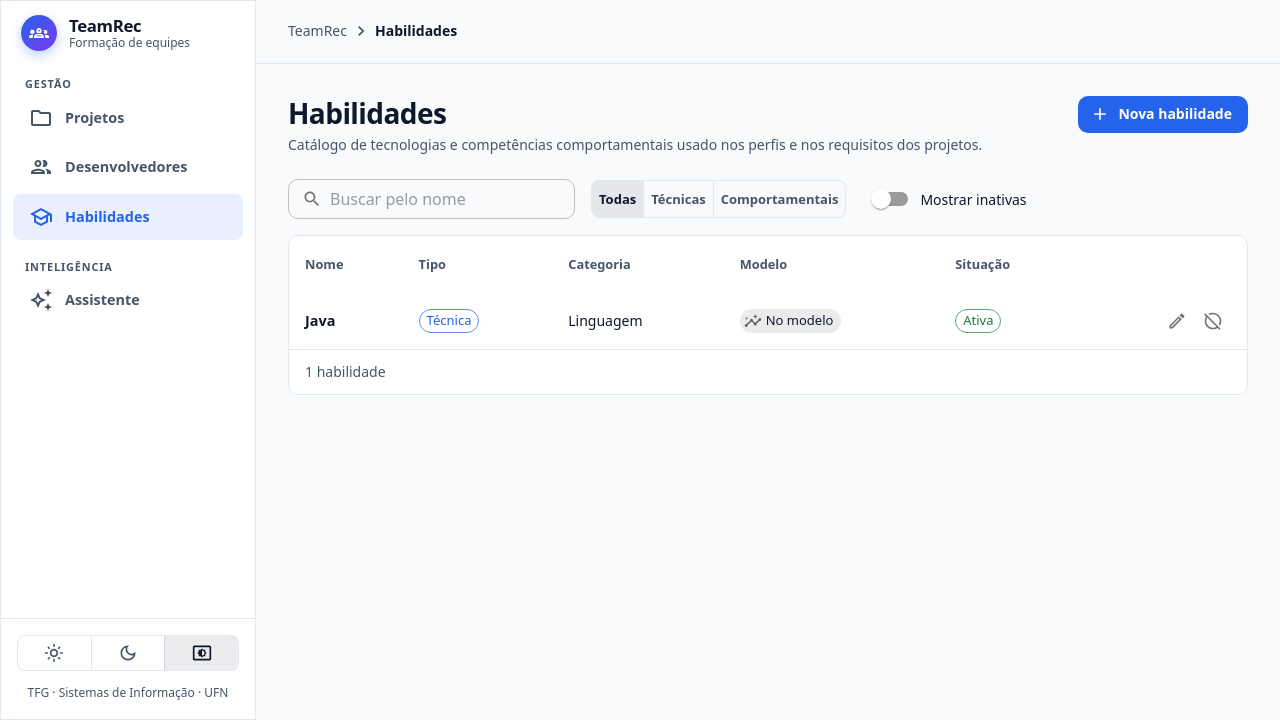
Test: pagina de habilidades › mostra no campo o conflito de nome devolvido pelo servidor
Click the button "Nova habilidade": (1163, 114) [1078,96,1248,132]
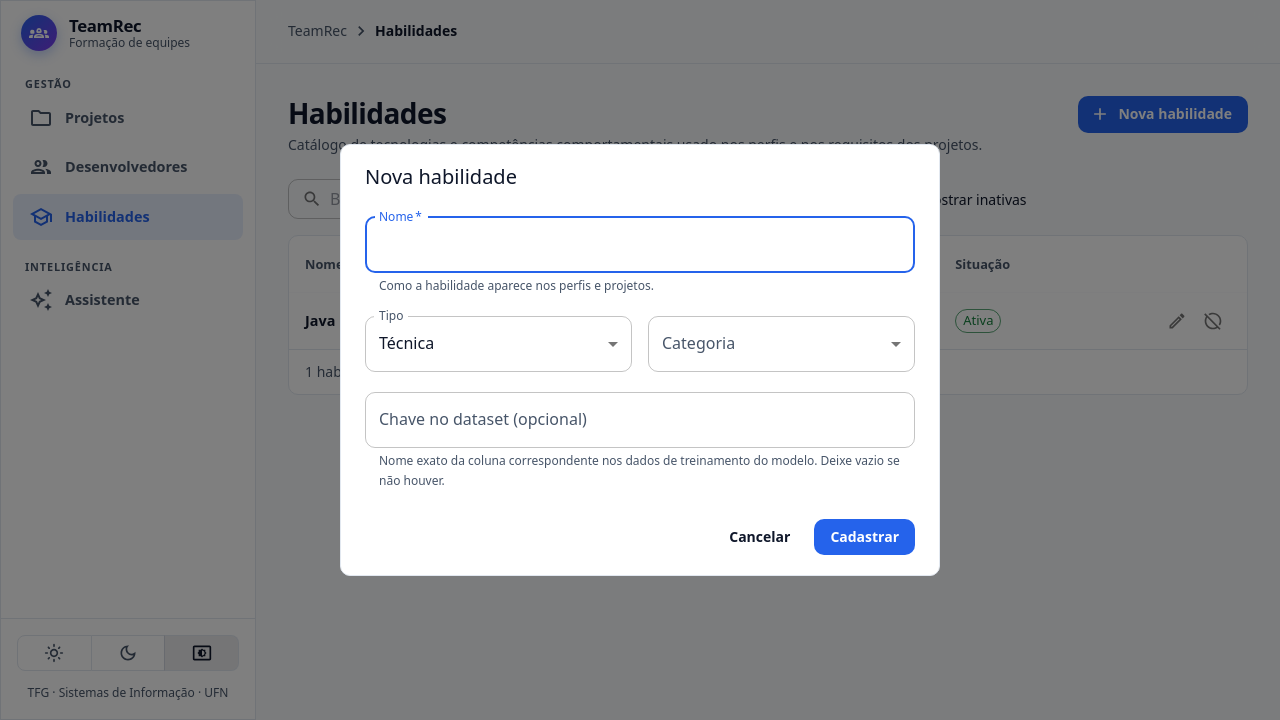
In the field labelled "Nome *": (640, 245) [365,217,915,273], type "Java"
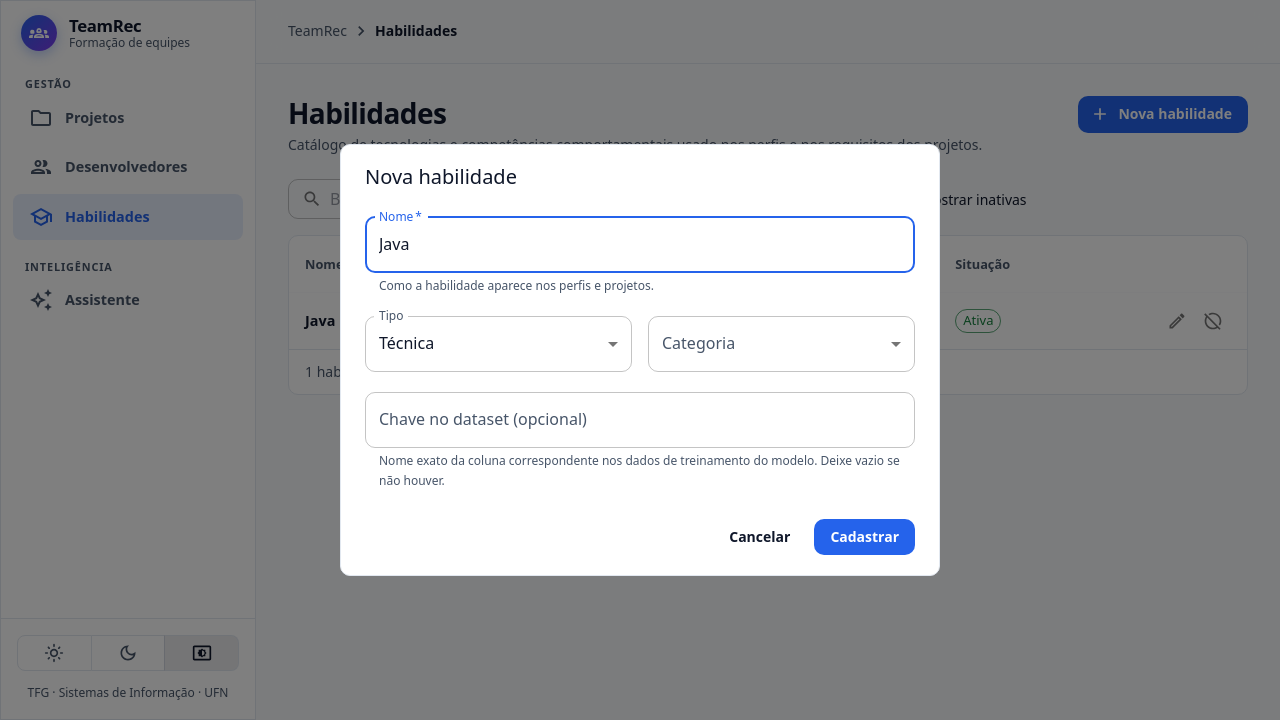
Click the dropdown named "Categoria": (782, 344) [648,316,915,372]
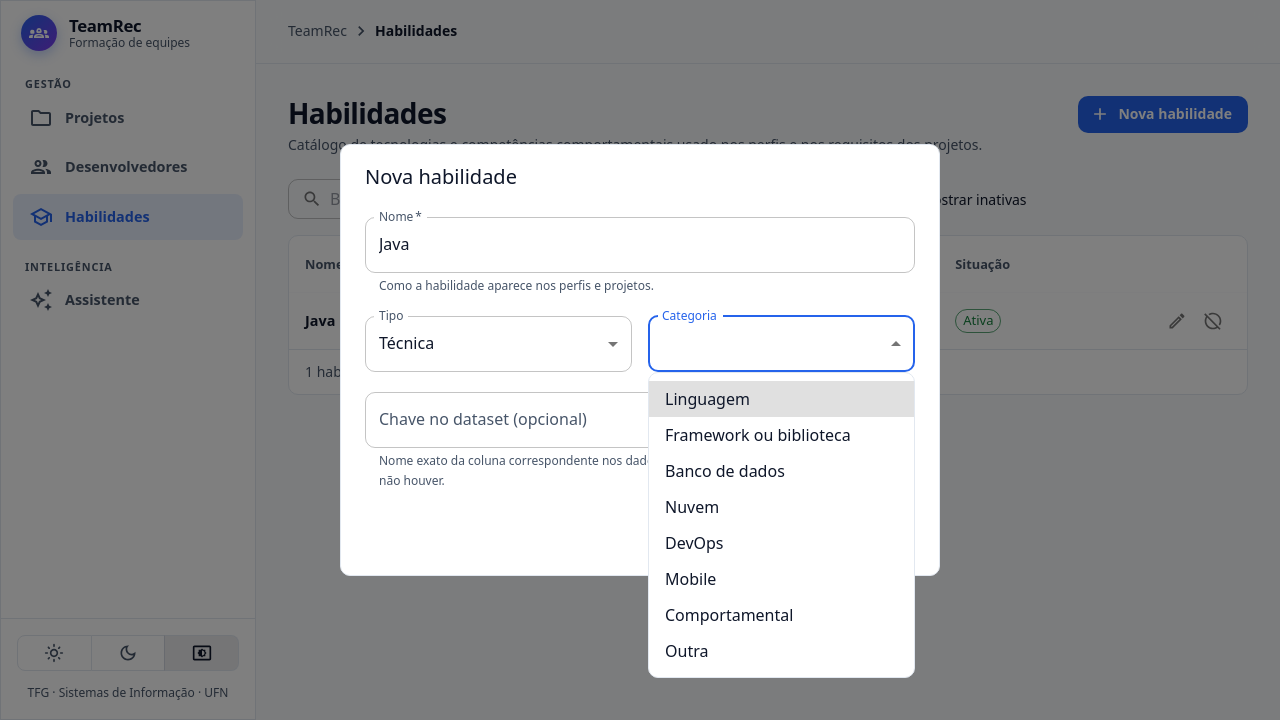
Click the option "Linguagem": (707, 399) [649,381,914,417]
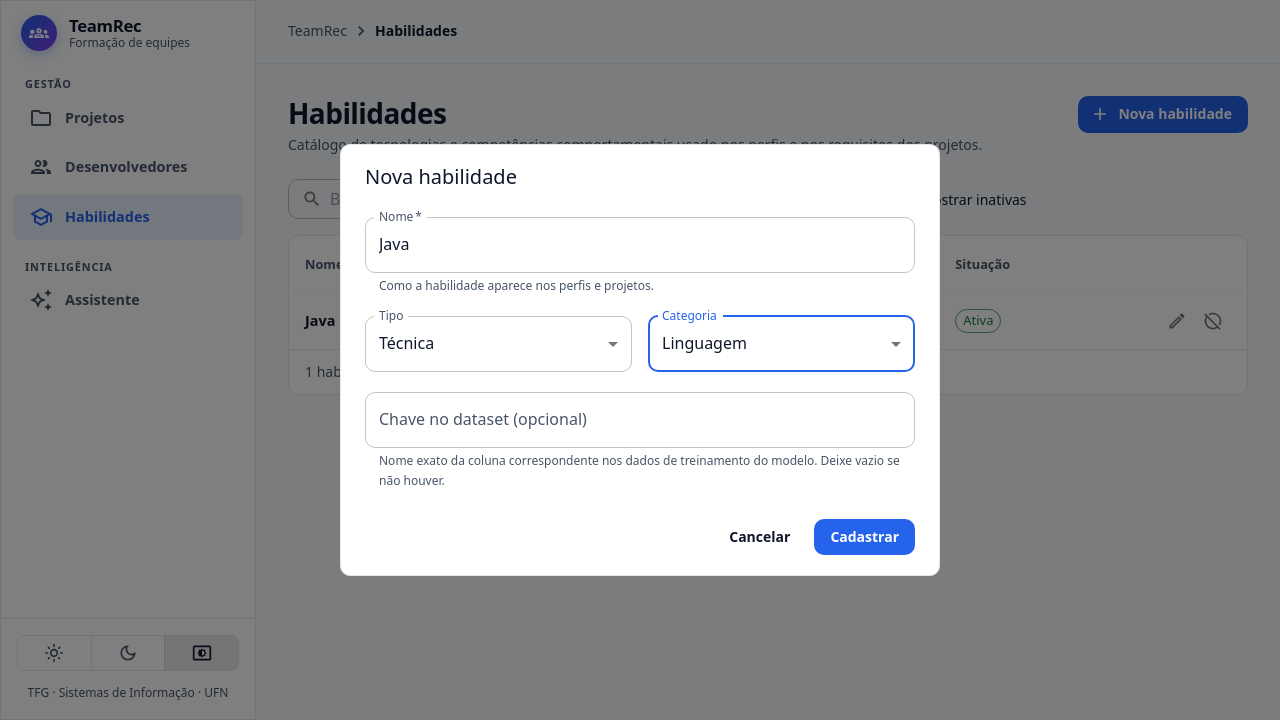
Click the button "Cadastrar": (865, 537) [814,519,915,555]
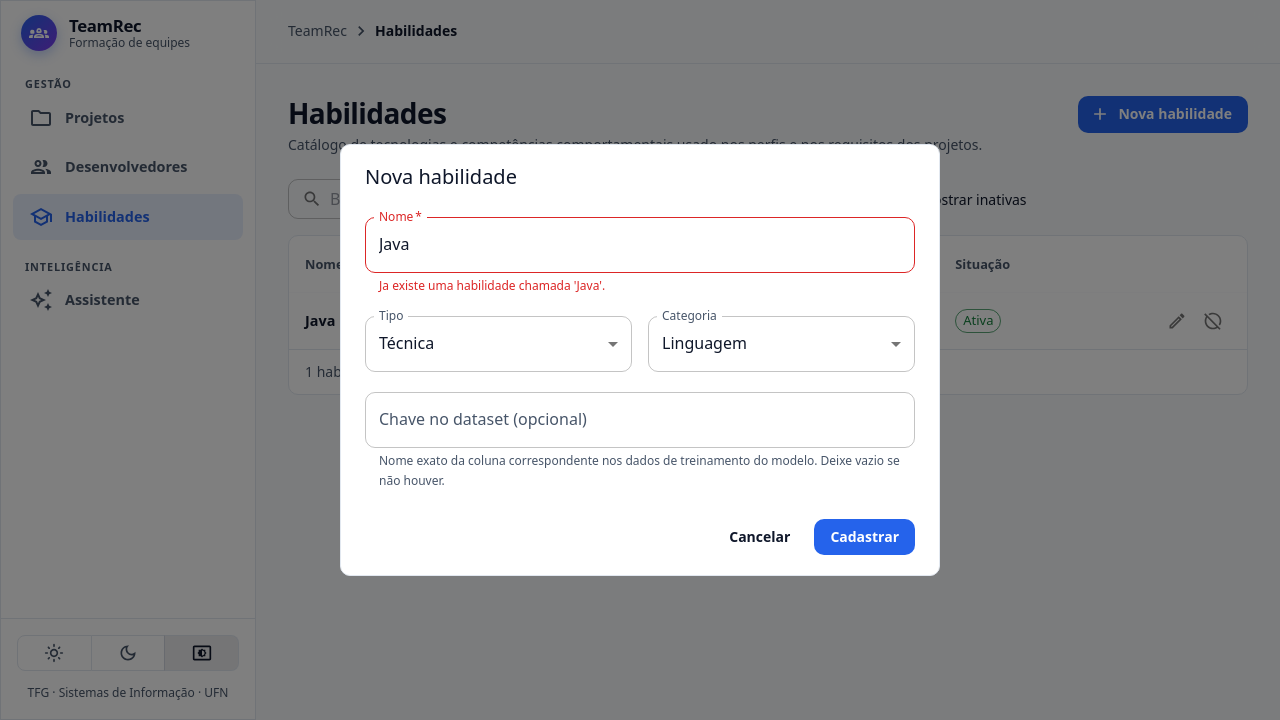
Check: the text "Ja existe uma habilidade chamada 'Java'." is shown, box [379,277,605,294]
